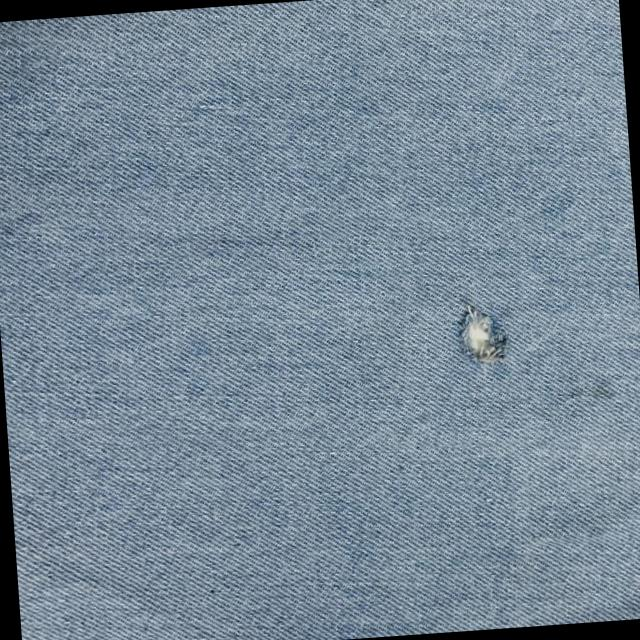hole: (451, 303, 513, 371)
